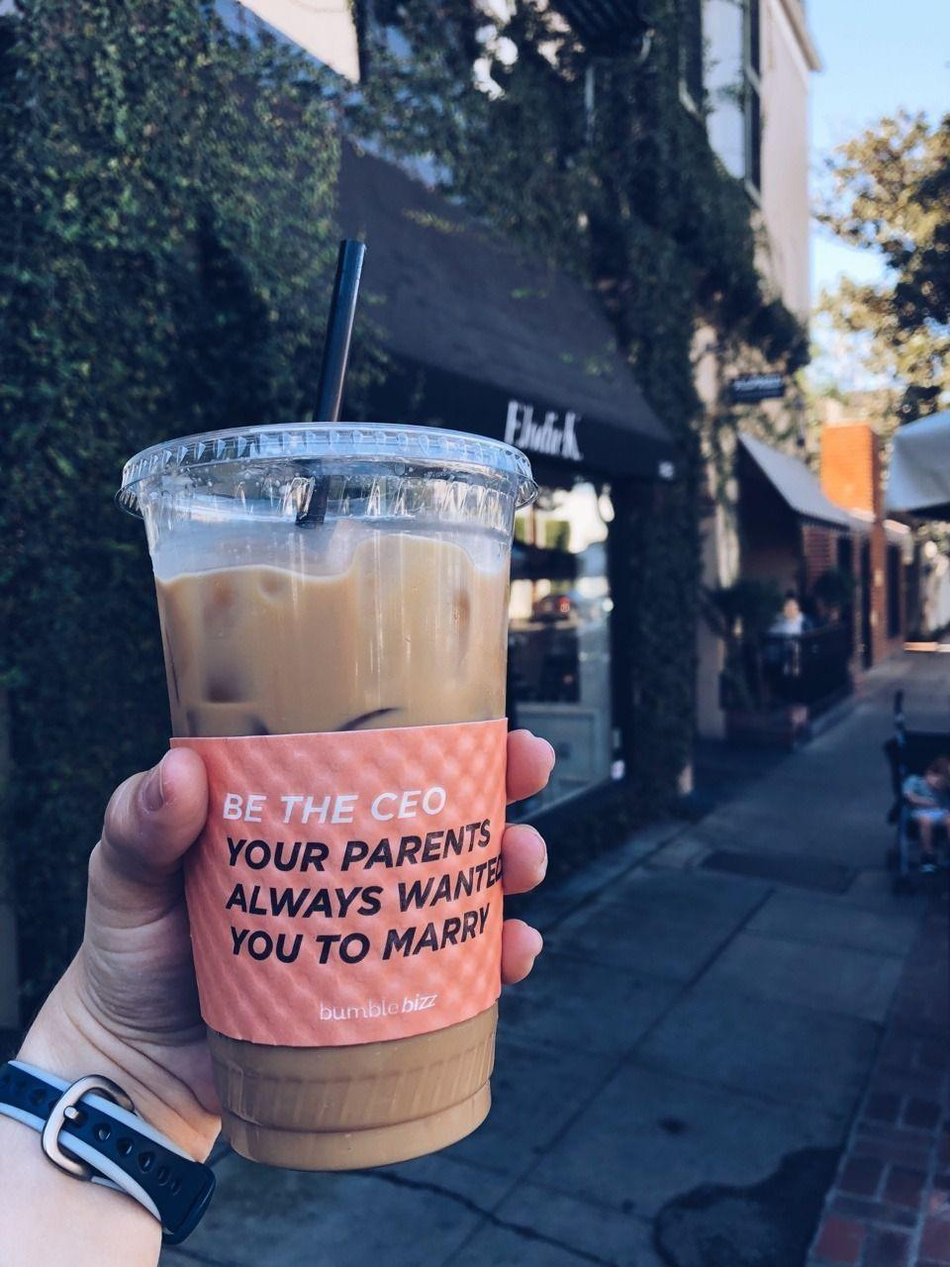cup-disposable: (117, 418, 538, 1176)
